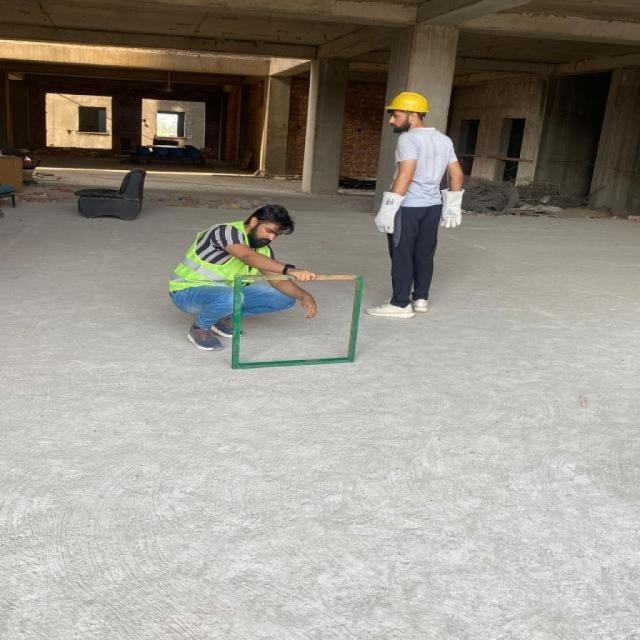Gloves-Detection: (372, 190, 400, 230), (440, 190, 464, 232)
